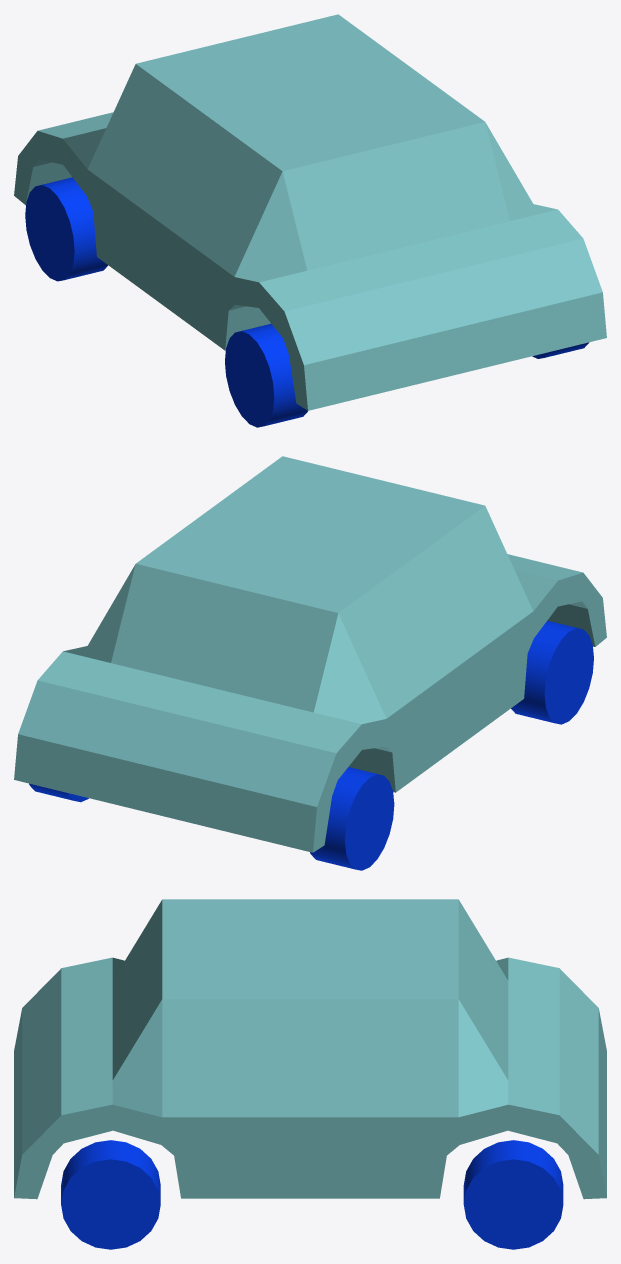
The model's file is tom_car.glb.
3 views of the same model, one above another, from view 1: azimuth 30°, elevation 25°; view 2: azimuth 150°, elevation 25°; view 3: azimuth 270°, elevation 25° (orthographic).
Parts seen in each view (by area): view 1: car_body, pCylinder3; view 2: car_body, pCylinder3; view 3: car_body, pCylinder4.
Boxes of the visible parts, x1,y1,x2,y2 form: car_body: [14, 14, 606, 410]; pCylinder3: [25, 177, 307, 427]; car_body: [14, 456, 606, 852]; pCylinder3: [310, 620, 593, 870]; car_body: [14, 899, 606, 1199]; pCylinder4: [61, 1140, 563, 1249].
Bounding box in the file's own units: 0.0747 × 0.0491 × 0.1189.
